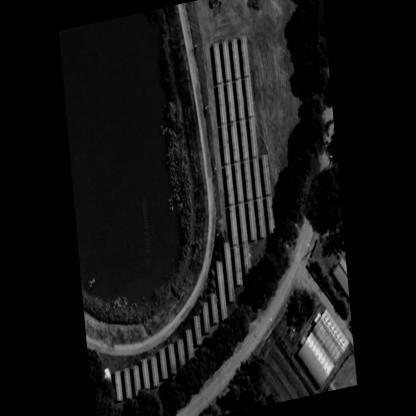solar-pv-panel: (115, 35, 275, 402)
